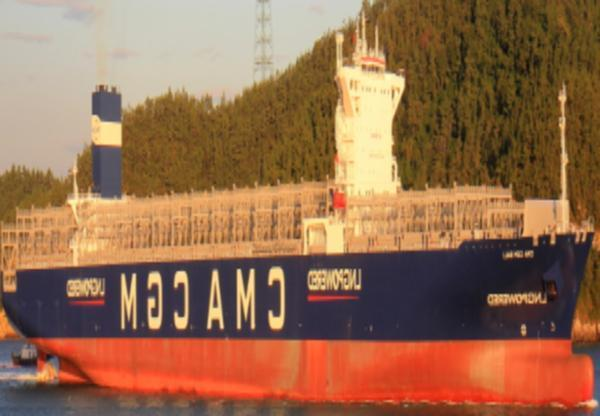Container Ship: (0, 0, 597, 413)
